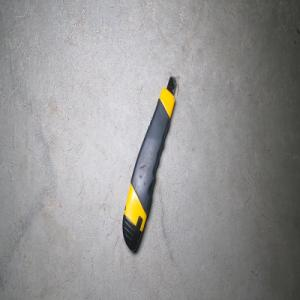Cutter: (121, 75, 177, 253)
